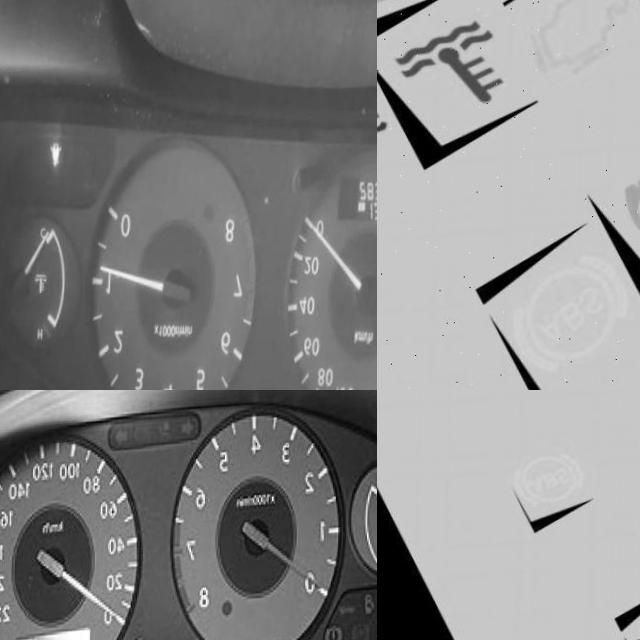Seat Belt: (50, 143, 63, 170)
